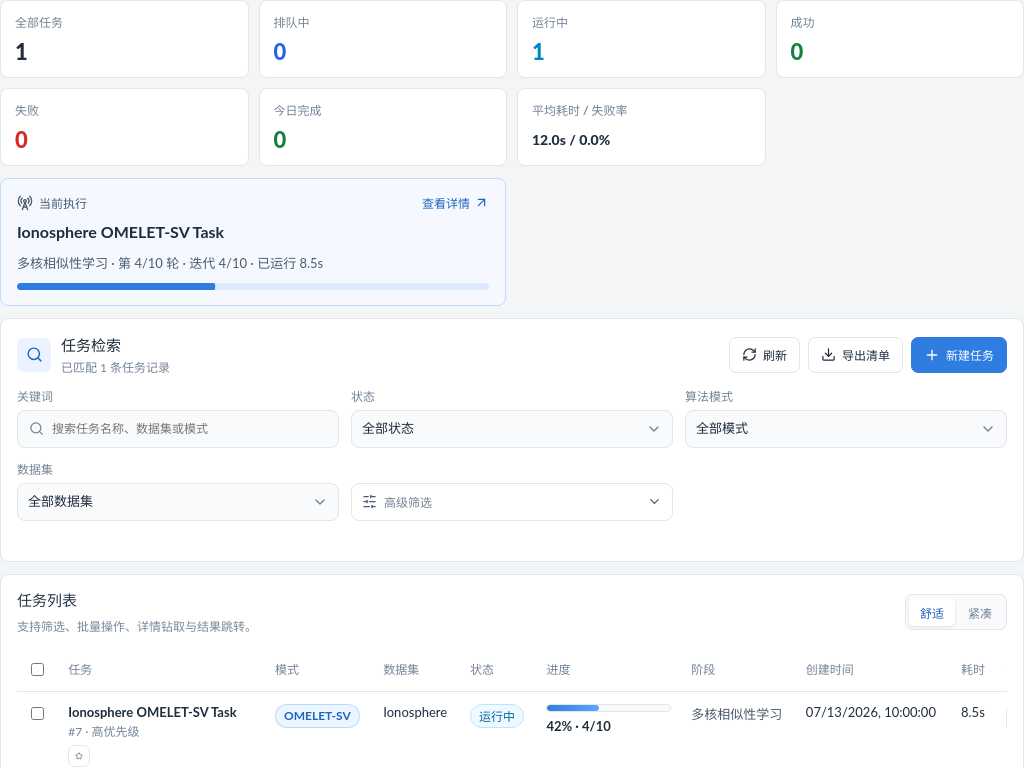
Test: TaskCenterPage › opens a guided task creation flow from the task center
Click the button "新建任务": (959, 355) [911,337,1007,373]
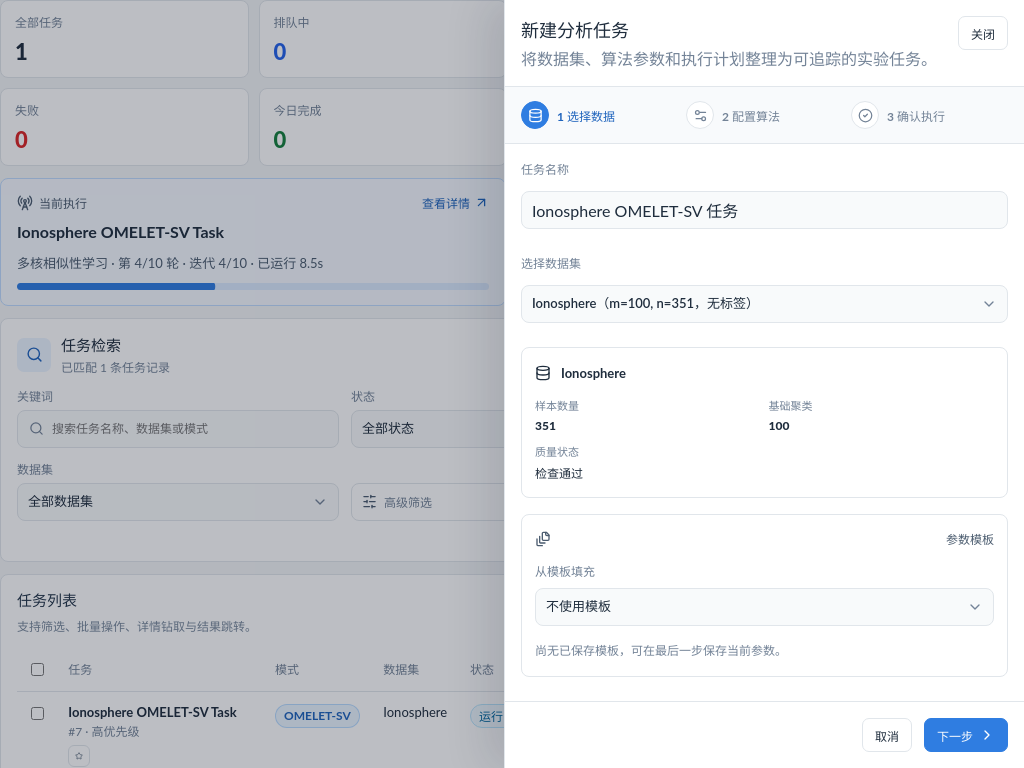
Expected: the heading "新建分析任务" is shown, [521,19,629,41]
Expected: the text "1 选择数据" is shown, [557,106,615,124]
Expected: the button "下一步" is shown, [924,718,1008,752]
